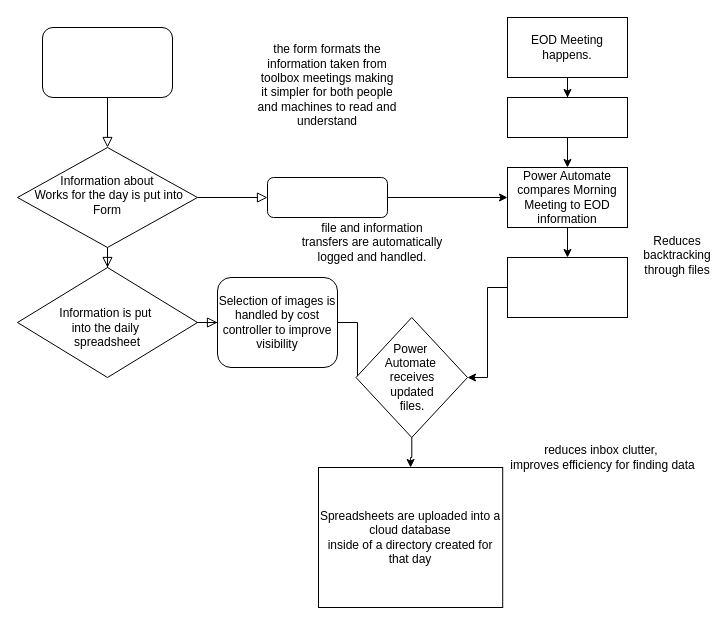
Some shapes in this 728 by 625 pixel diagram are drawn without their labels. Each missing label, with the centre of its shape:
Comparative Analysis is parsed into a spreadsheet: the point at 567,287
EOD Info is put into EOD Form: the point at 567,117
Information for the day is stored: the point at 327,197
Morning Work Meeting happens on site.: the point at 107,62
